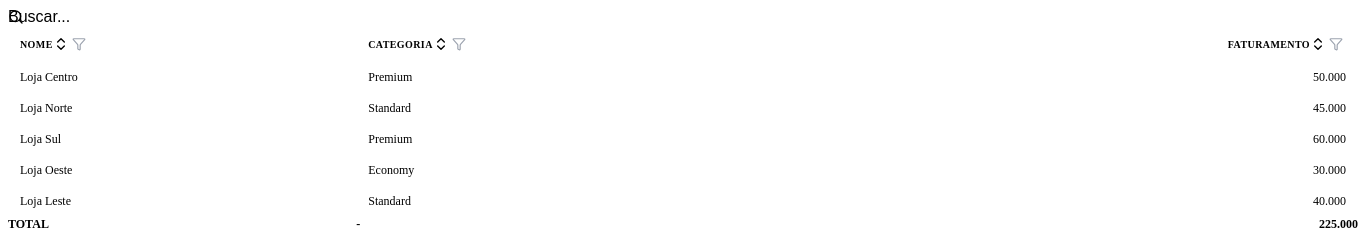
Scenario: DataTable › column filters › deve abrir dropdown ao clicar no ícone de filtro
Click the button with test id "col-filter-icon" next to "Categoria". click: x=459, y=44
box: [449, 34, 469, 54]
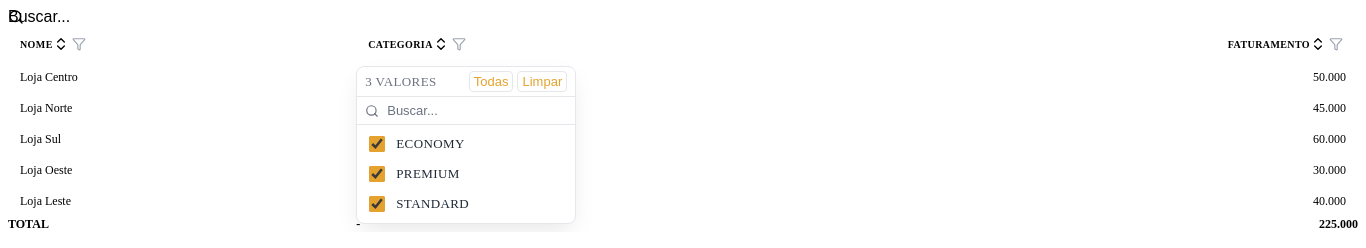
Check: the element with class "data-table__col-filter-dropdown" is shown, box [356, 66, 576, 224]
